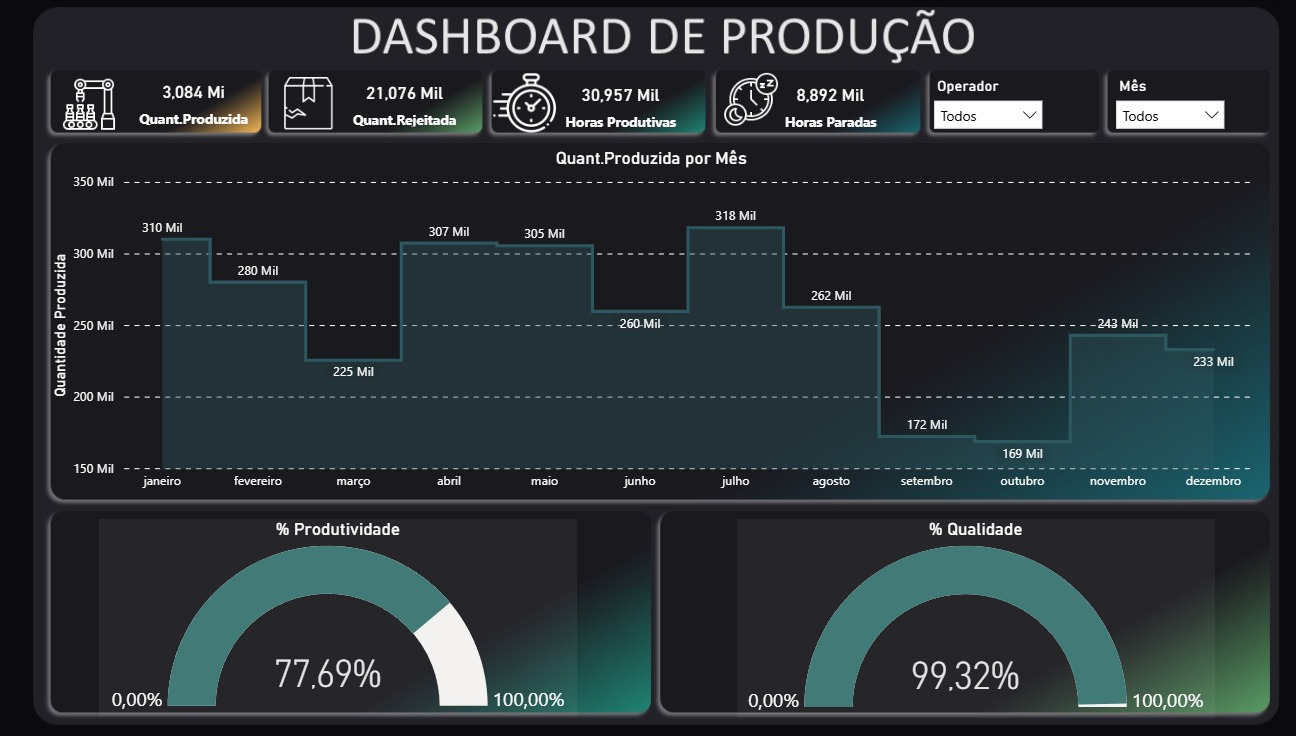

The page's visual inventory and layout, read from the dashboard file:
{"tool":"powerbi","page":{"name":"Página 1","canvas":[1280,720],"ordinal":0},"visuals":[{"type":"card","fields":{"Values":["BaseProdução.Quantidade Produzida"]},"box":[116.7,71,154.7,57.4],"z":0},{"type":"card","fields":{"Values":["Sum(BaseProdução.Qtd Rejeitada)"]},"box":[321.9,72,154.7,57.4],"z":1000},{"type":"card","fields":{"Values":["BaseProdução.Horas Produtivas"]},"box":[532,73.9,154.7,57.4],"z":2000},{"type":"card","fields":{"Values":["BaseProdução.Horas Paradas"]},"box":[736.3,73.9,154.7,57.4],"z":3000},{"type":"lineChart","title":"Quant.Produzida por Mês","fields":{"Category":["BaseProdução.Nome do Mês"],"Y":["BaseProdução.Quantidade Produzida"]},"box":[50.6,144.9,1177.9,341.4],"z":4000},{"type":"slicer","fields":{"Values":["BaseProdução.Nome do Mês"]},"box":[1081.6,71,125.5,57.4],"z":5000},{"type":"slicer","fields":{"Values":["BaseProdução.Operador"]},"box":[904.6,71,125.5,73.9],"z":6000},{"type":"gauge","fields":{"Y":["BaseProdução.% Produtividade"]},"box":[101.9,505.6,464.9,191.6],"z":7000},{"type":"gauge","fields":{"Y":["BaseProdução.Qualidade"]},"box":[722.4,505.6,464.6,192.8],"z":8000},{"type":"image","box":[696.4,71,79.8,53.5],"z":9000},{"type":"image","box":[476.6,71,78.8,60.3],"z":10000},{"type":"image","box":[280.1,75.9,54.5,50.6],"z":11000},{"type":"image","box":[59.3,75.9,66.1,53.5],"z":12000}]}

Visuals, with their boxes in screenshot pixels (x1, y1, x2, y2), scaled from the page's 1280x720 canvas onto the 1296x736 screenshot:
card - BaseProdução.Quantidade Produzida: x1=118 y1=73 x2=275 y2=131
card - Sum(BaseProdução.Qtd Rejeitada): x1=326 y1=74 x2=483 y2=132
card - BaseProdução.Horas Produtivas: x1=539 y1=76 x2=695 y2=134
card - BaseProdução.Horas Paradas: x1=746 y1=76 x2=902 y2=134
"Quant.Produzida por Mês" lineChart: x1=51 y1=148 x2=1244 y2=497
slicer - BaseProdução.Nome do Mês: x1=1095 y1=73 x2=1222 y2=131
slicer - BaseProdução.Operador: x1=916 y1=73 x2=1043 y2=148
gauge - BaseProdução.% Produtividade: x1=103 y1=517 x2=574 y2=713
gauge - BaseProdução.Qualidade: x1=731 y1=517 x2=1202 y2=714
image: x1=705 y1=73 x2=786 y2=127
image: x1=483 y1=73 x2=562 y2=134
image: x1=284 y1=78 x2=339 y2=129
image: x1=60 y1=78 x2=127 y2=132
